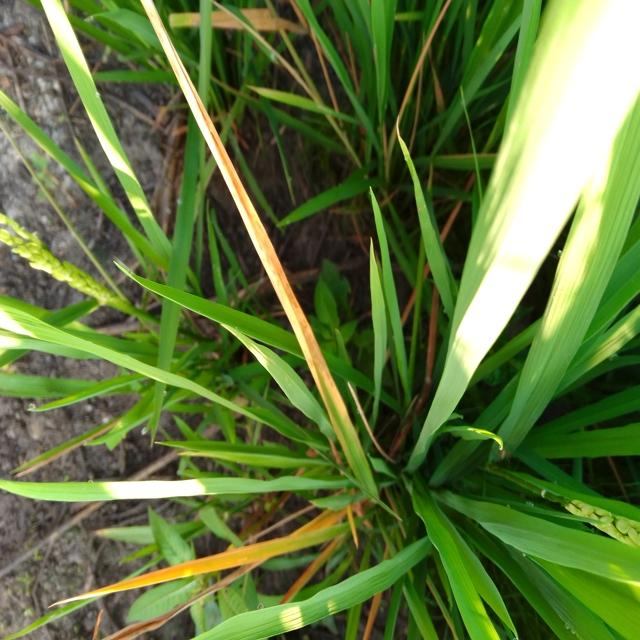Brown spot: (123, 6, 402, 497), (64, 507, 382, 632), (0, 460, 242, 519)
